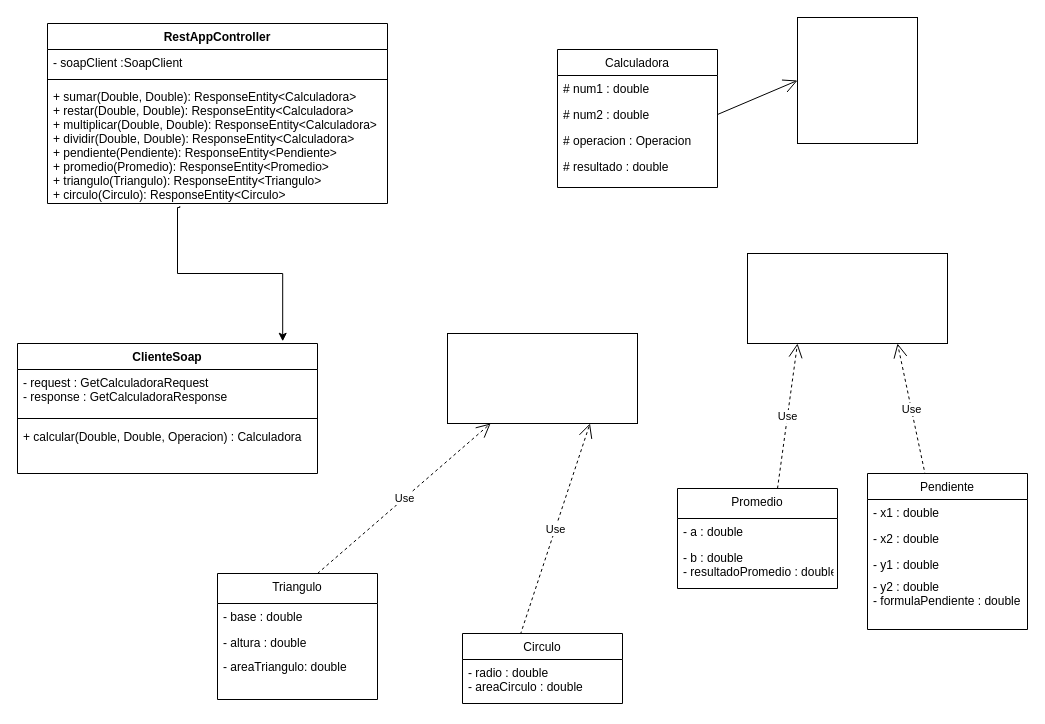
Image size: 1045x724. Some labels were removed from this diagram. The shapes that lost their labels are listed below. From the top down, each one's centre as x and y in pixels, then its label:
point (857, 80): <<enumeration>> Operacion SUMAR RESTAR MULTILPICAR DIVIDIR
point (847, 298): <<Interface>> IMedida + calcularFormula(SoapClient): void
point (542, 378): <<Interface>> IFiguraGeometrica + calcularArea(SoapClient): void
